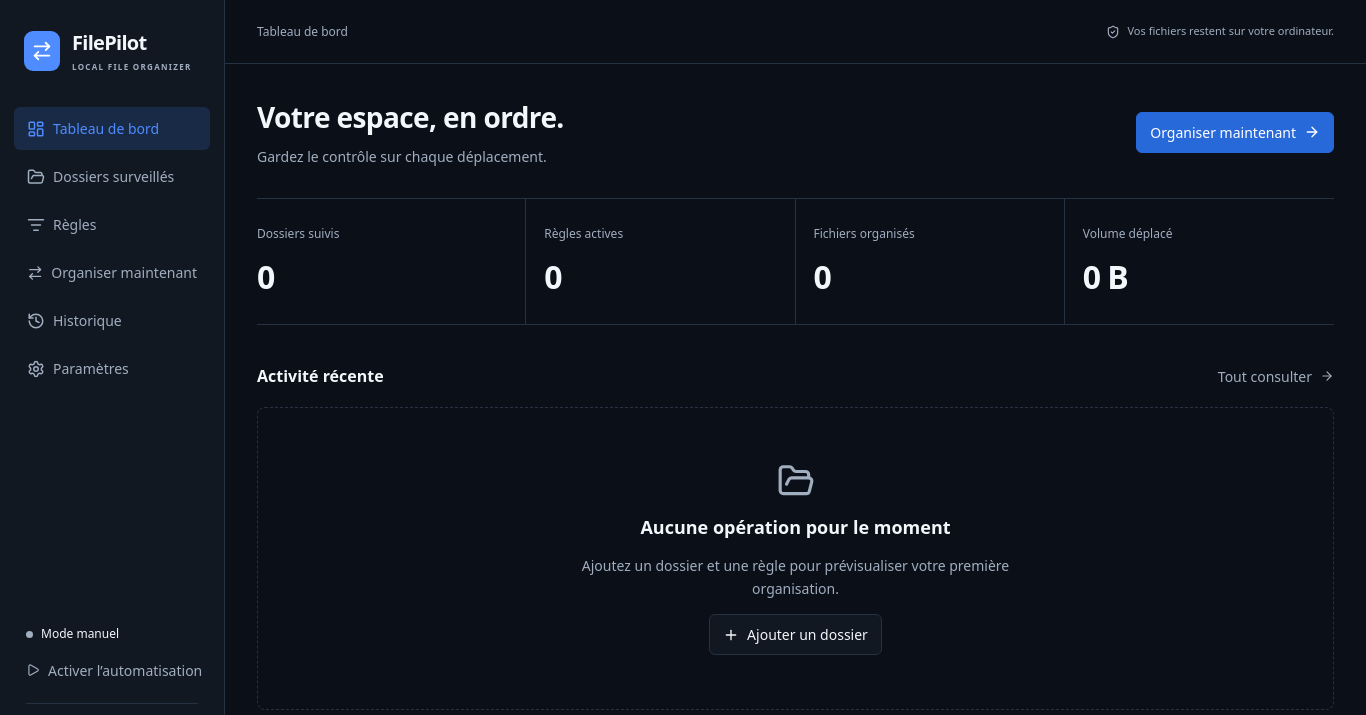
Test: desktop interface › navigates to folder management
Check: the heading "Votre espace, en ordre." is shown, box [257,96,564,138]
Click the button "Dossiers surveillés": (112, 176) [14,155,210,198]
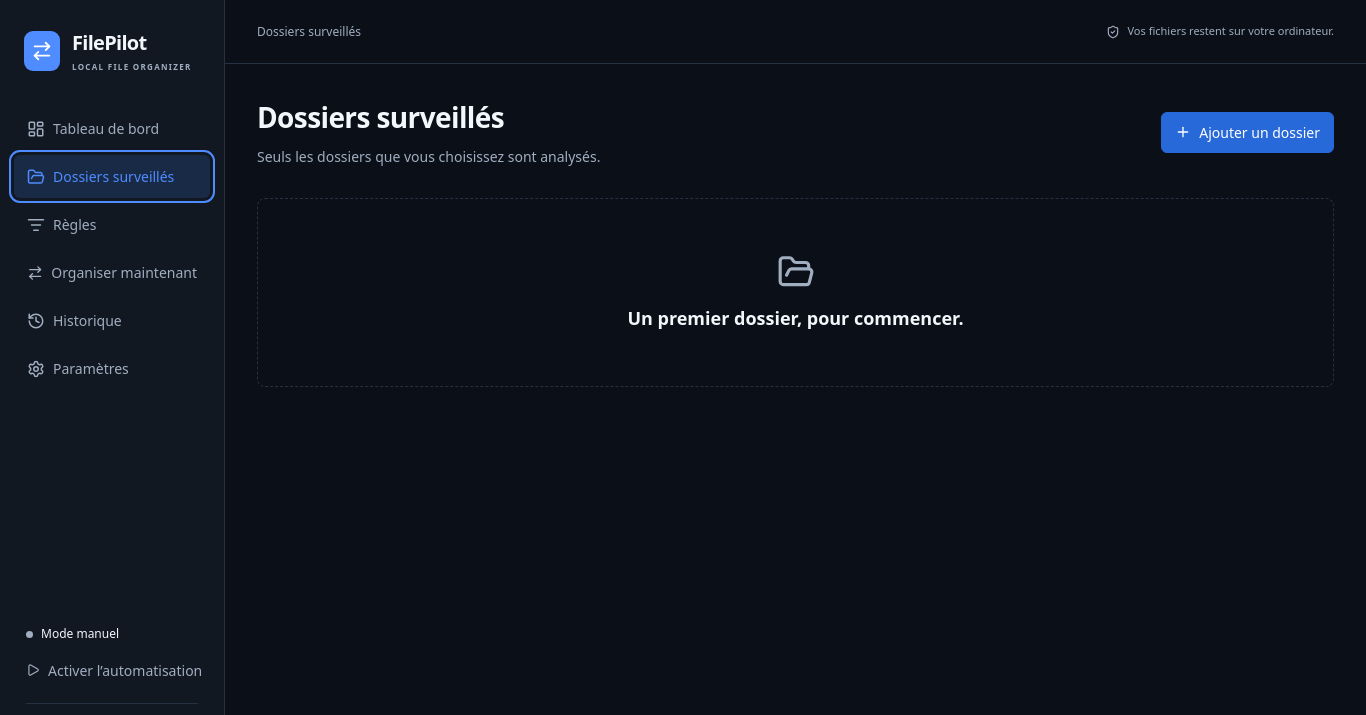
Check: the heading "Un premier dossier, pour commencer." is shown, box [627,305,964,332]
